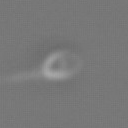normal: (1, 55, 41, 92)
